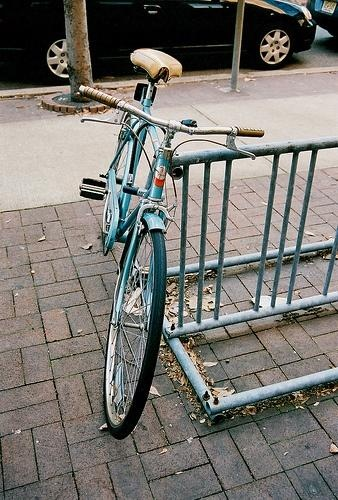bicycle: (79, 50, 265, 440)
car: (1, 1, 317, 82)
